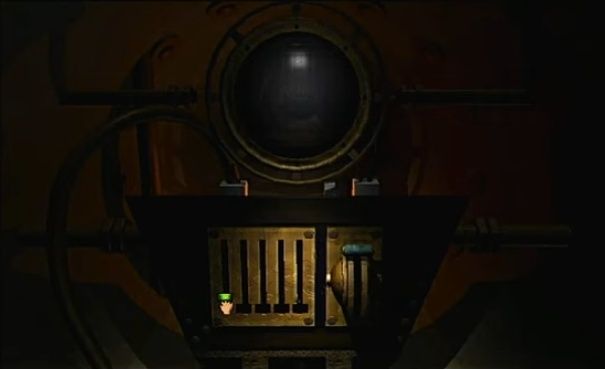Hold: (217, 298, 236, 317)
